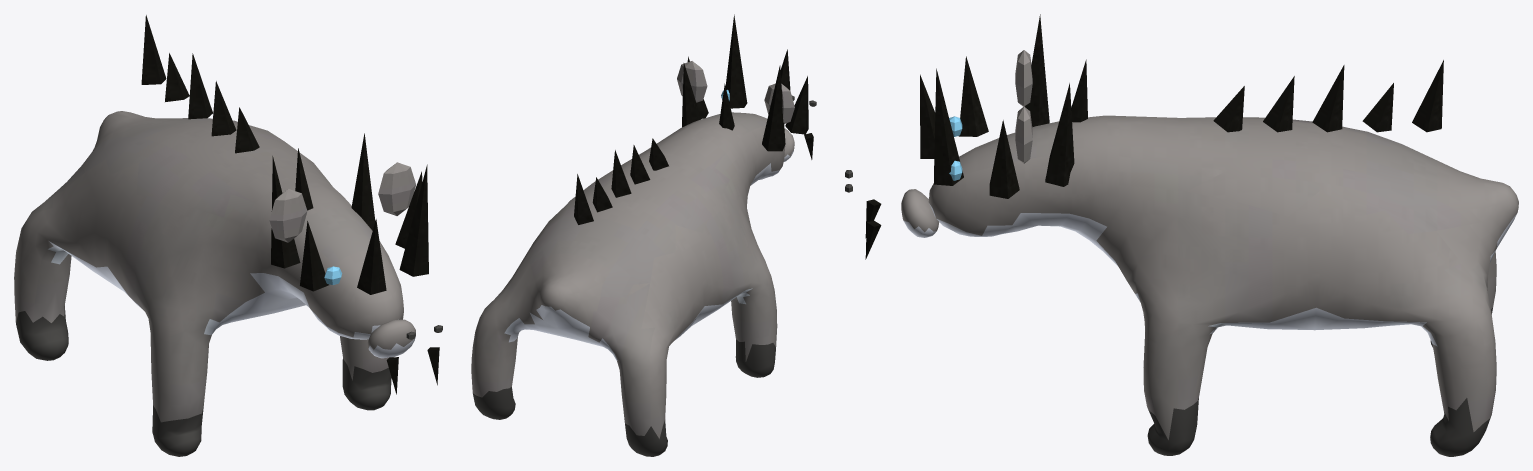
The model's file is mon_sp_snow_bear_king.glb.
The picture shows the model from 3 angles, left to right: view 1: azimuth 30°, elevation 25°; view 2: azimuth 150°, elevation 25°; view 3: azimuth 270°, elevation 25°; orthographic projection. The views are drawn at different scales.
Visible parts, largest first — view 1: mon_sp_snow_bear_king; view 2: mon_sp_snow_bear_king; view 3: mon_sp_snow_bear_king.
Boxes of the visible parts, x1,y1,x2,y2 form: mon_sp_snow_bear_king: [14, 15, 442, 456]; mon_sp_snow_bear_king: [471, 14, 816, 456]; mon_sp_snow_bear_king: [845, 14, 1518, 456].
Size of the model in its own units: 1.62 by 2.22 by 3.77.
Materials: 5 (5 with a texture image).
